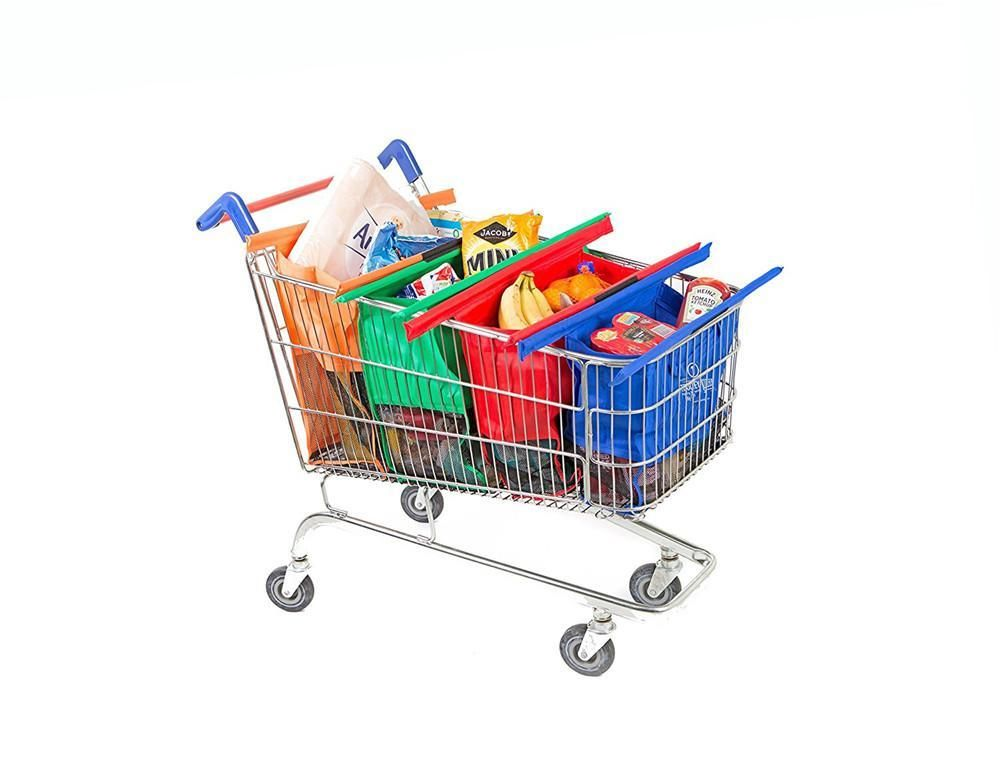with_basket: (175, 138, 749, 658)
